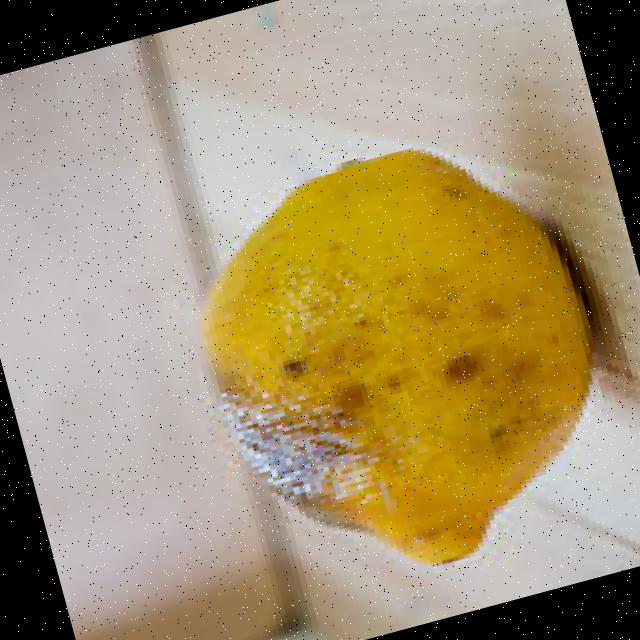overripe: (154, 108, 640, 615)
